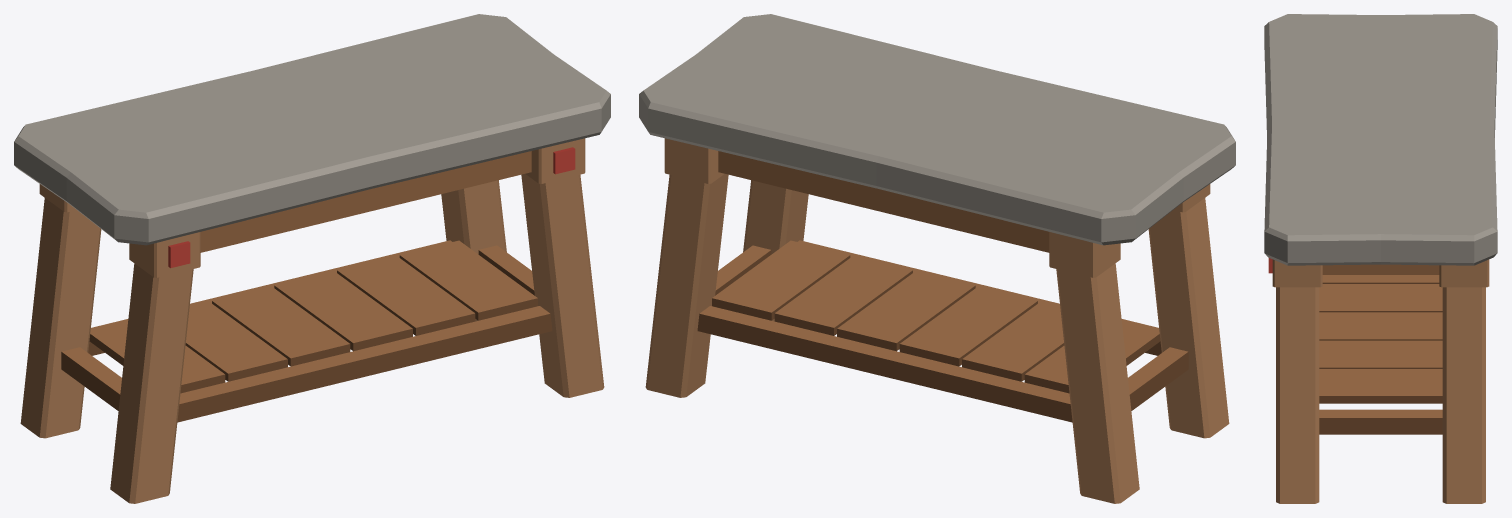
Rendered from FMS_Workshop_FUR_01.fbx.
3 views of the same model, side by side, from view 1: azimuth 30°, elevation 25°; view 2: azimuth 150°, elevation 25°; view 3: azimuth 270°, elevation 25° (orthographic). The views are drawn at different scales.
Visible parts, largest first — view 1: FMS_Workshop_FUR_01_Body; view 2: FMS_Workshop_FUR_01_Body; view 3: FMS_Workshop_FUR_01_Body.
Part boxes in pixels (x1=…): FMS_Workshop_FUR_01_Body: x1=14, y1=14, x2=610, y2=503; FMS_Workshop_FUR_01_Body: x1=639, y1=14, x2=1235, y2=503; FMS_Workshop_FUR_01_Body: x1=1264, y1=14, x2=1497, y2=503.
Size of the model in its own units: 1.6 by 0.9 by 0.7.
Materials: 1 (1 with a texture image).
